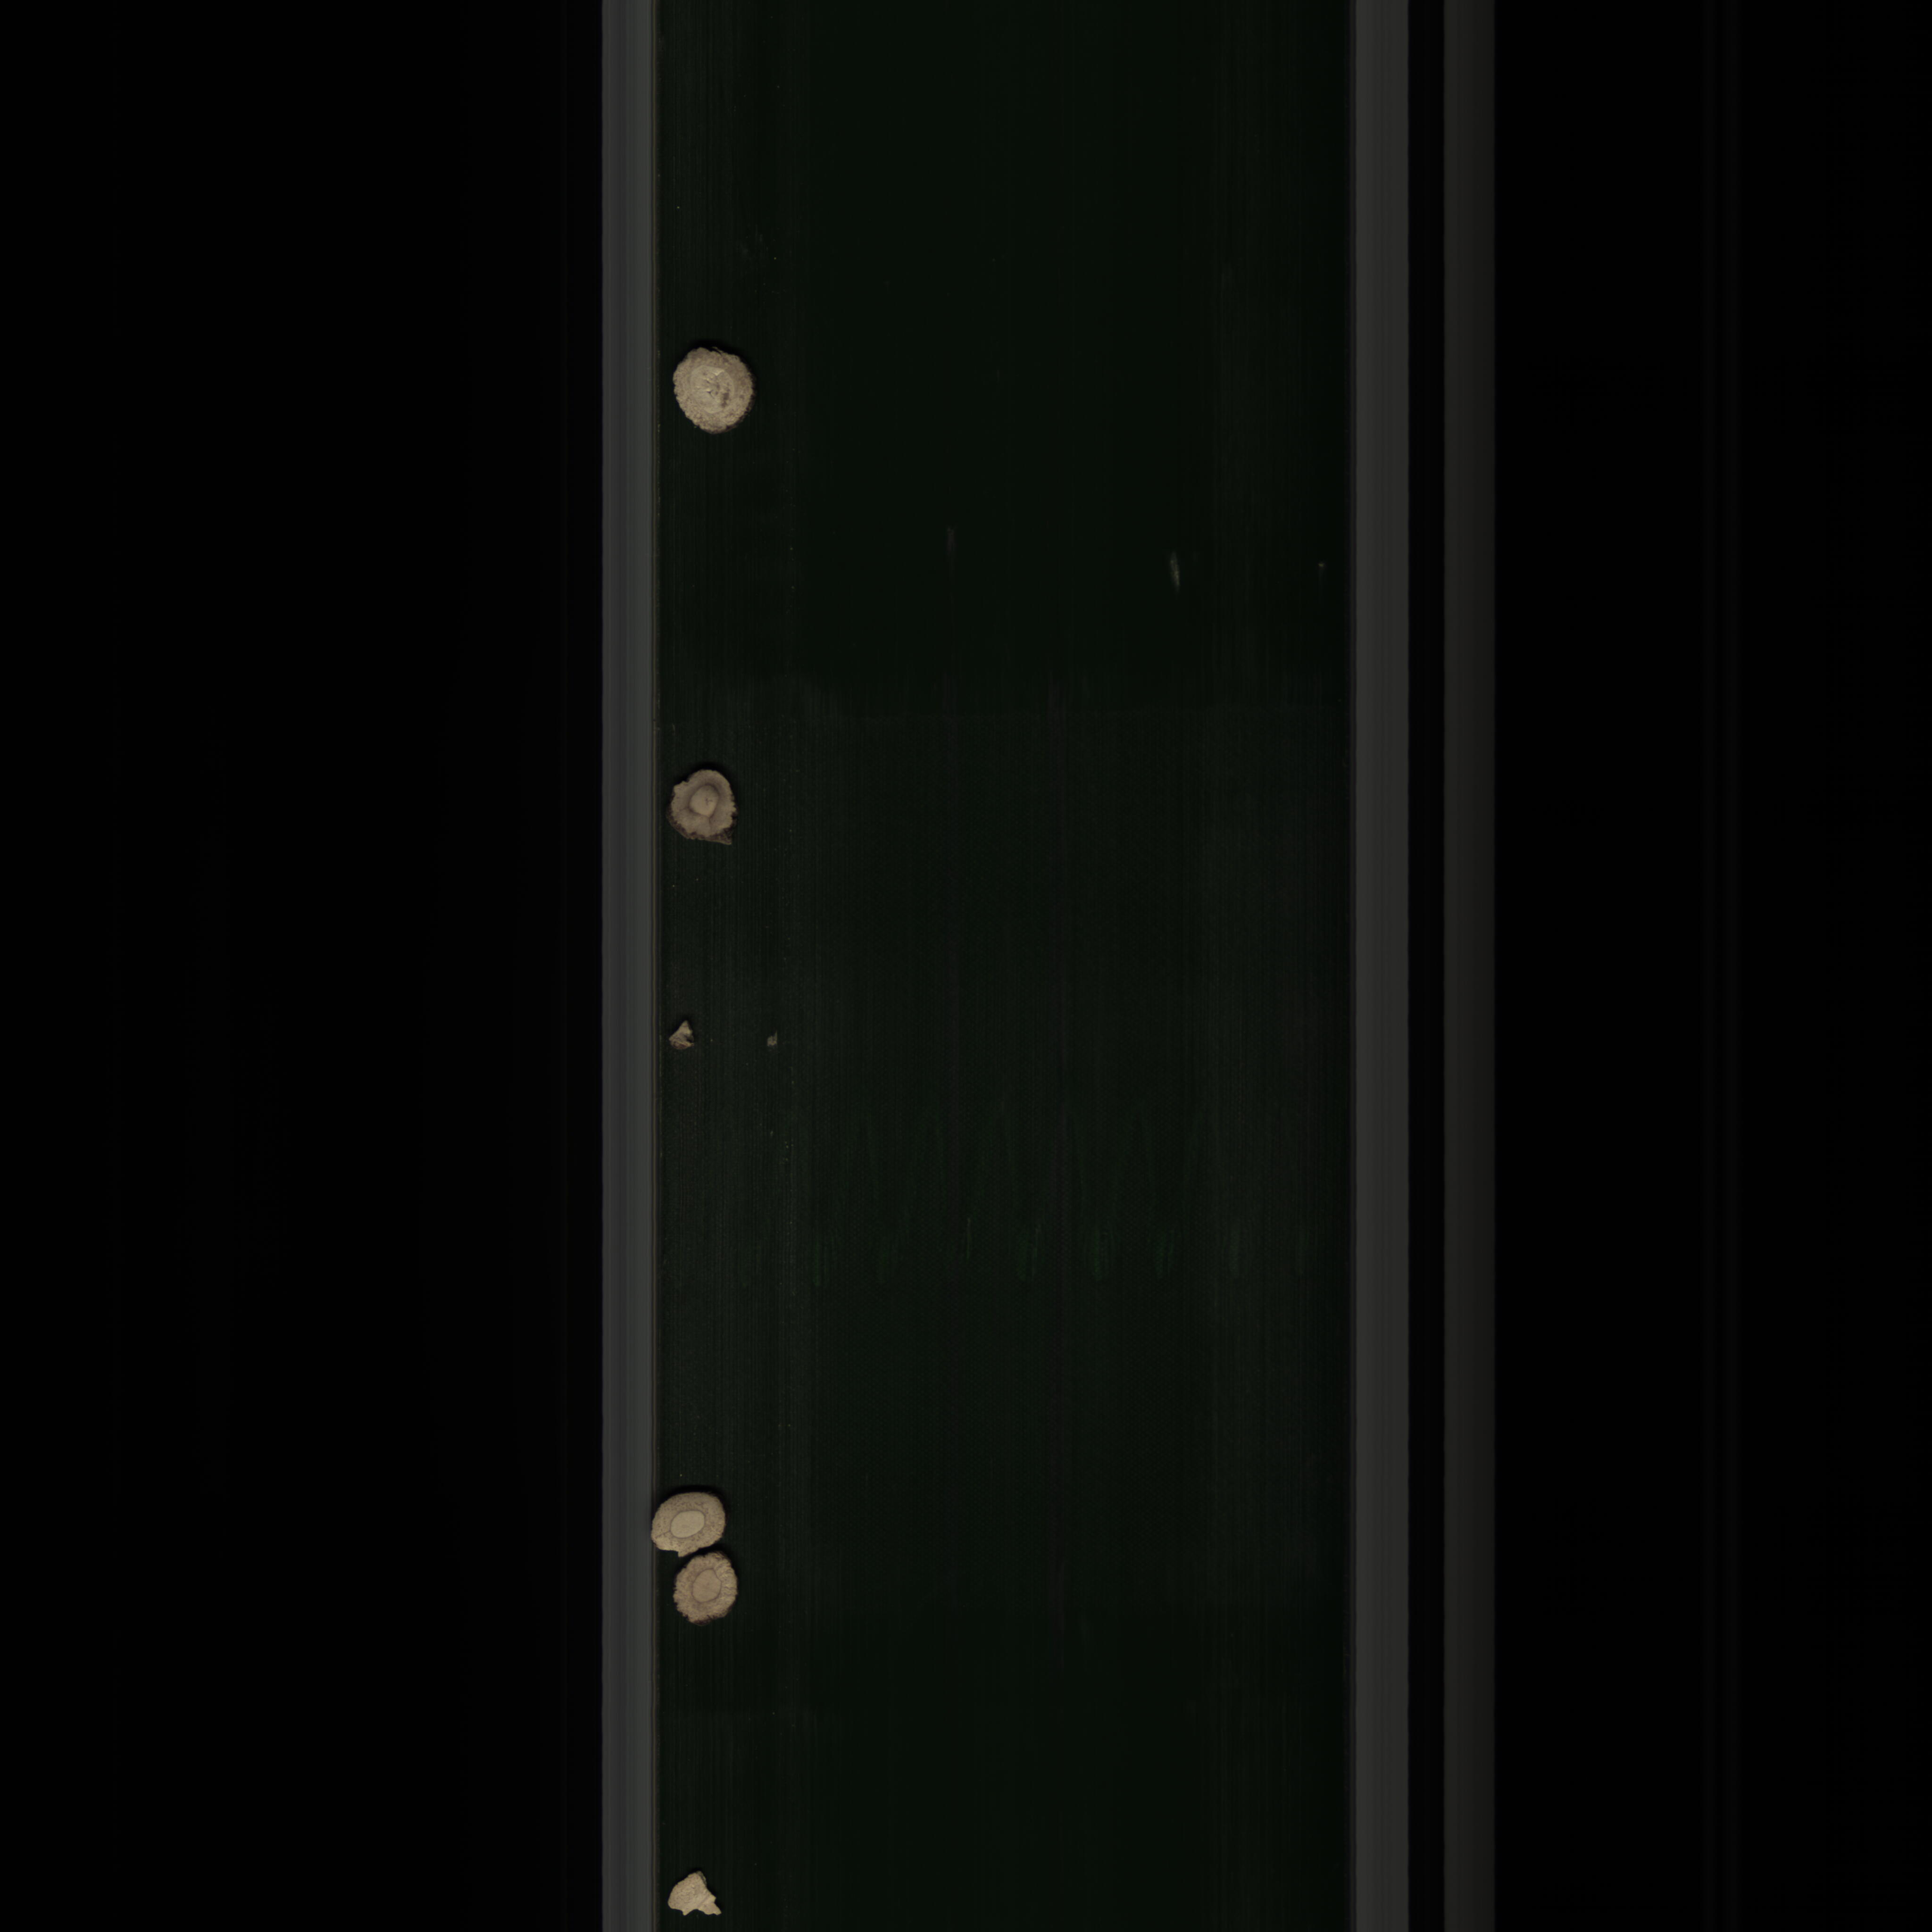bark: (663, 1017, 711, 1054)
debris: (658, 1865, 732, 1921)
moldy: (662, 763, 745, 853)
